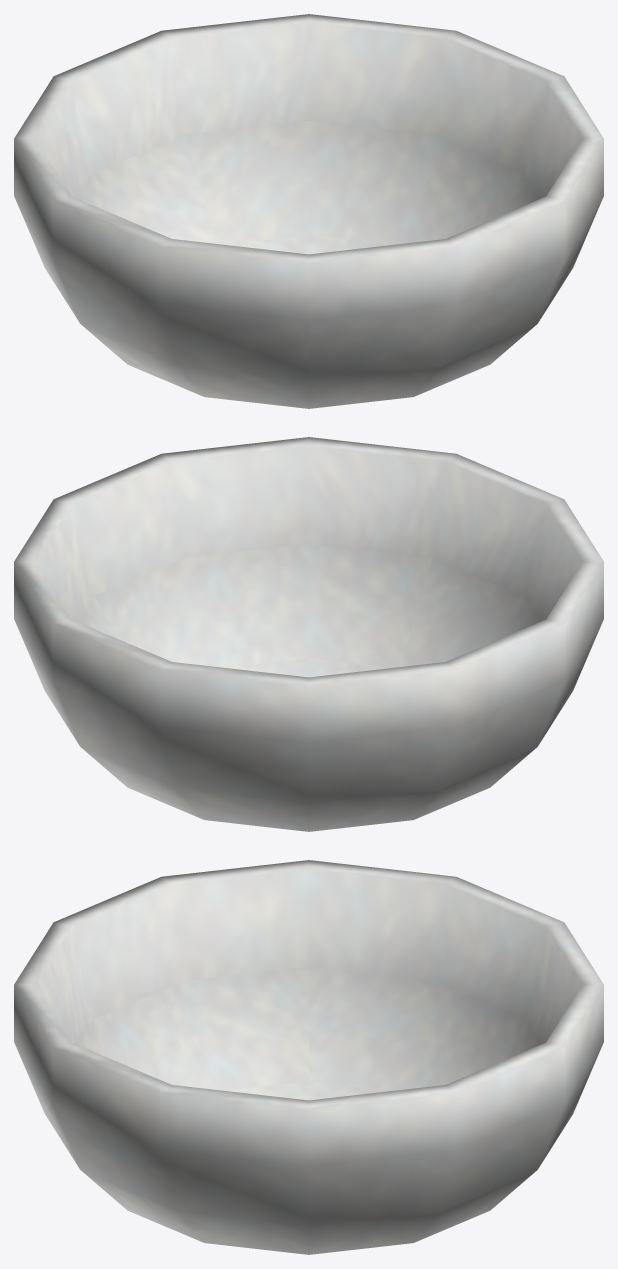
Rendered from bowl_04.obj.
3 renders of one model, top to bottom at view 1: azimuth 30°, elevation 25°; view 2: azimuth 150°, elevation 25°; view 3: azimuth 270°, elevation 25°, orthographic.
Parts seen in each view (by area): view 1: bowl.04; view 2: bowl.04; view 3: bowl.04.
Part boxes in pixels (x1,y1,x2,y2): bowl.04: [14, 14, 603, 408]; bowl.04: [14, 437, 603, 831]; bowl.04: [14, 860, 603, 1254].
Size of the model in its own units: 0.2772 by 0.1087 by 0.2772.
